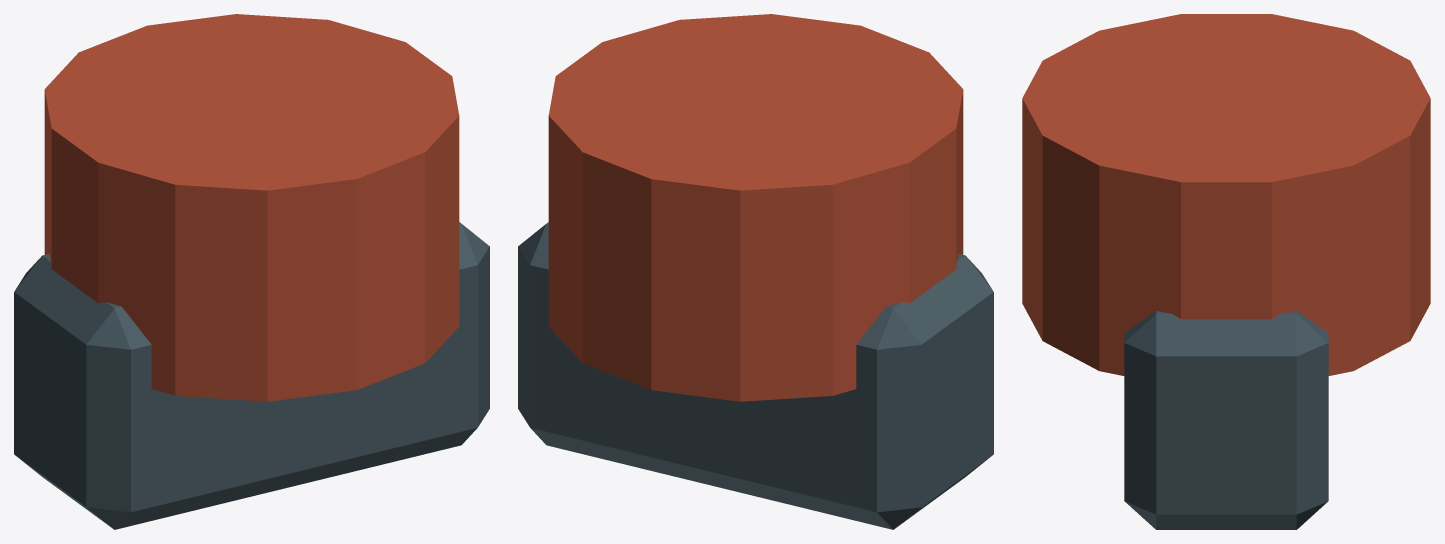
File: set_extension_reel.glb
3 views of the same model, side by side, from view 1: azimuth 30°, elevation 25°; view 2: azimuth 150°, elevation 25°; view 3: azimuth 270°, elevation 25° (orthographic). The views are drawn at different scales.
Parts seen in each view (by area): view 1: set_extension_reel; view 2: set_extension_reel; view 3: set_extension_reel.
Boxes of the visible parts, x1=… form: set_extension_reel: x1=14, y1=14, x2=489, y2=529; set_extension_reel: x1=518, y1=14, x2=993, y2=529; set_extension_reel: x1=1022, y1=14, x2=1430, y2=529.
Size of the model in its own units: 0.2 by 0.17 by 0.18.
